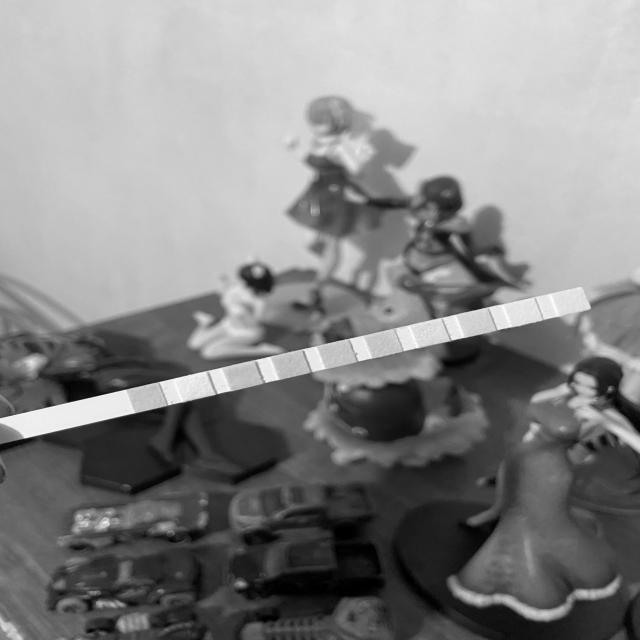Bilirubin: (183, 377, 208, 397)
Blood: (323, 345, 351, 364)
Glucose: (134, 388, 160, 407)
Ketone: (230, 366, 257, 386)
Leukocytes: (556, 293, 585, 311)
Nitrite: (508, 303, 537, 322)
Protein: (416, 324, 442, 344)
SpGravity: (276, 356, 304, 374)
Urobilinogen: (462, 313, 490, 332)
background: (0, 0, 640, 640)
pH: (369, 334, 396, 354)
strip: (0, 286, 594, 445)
